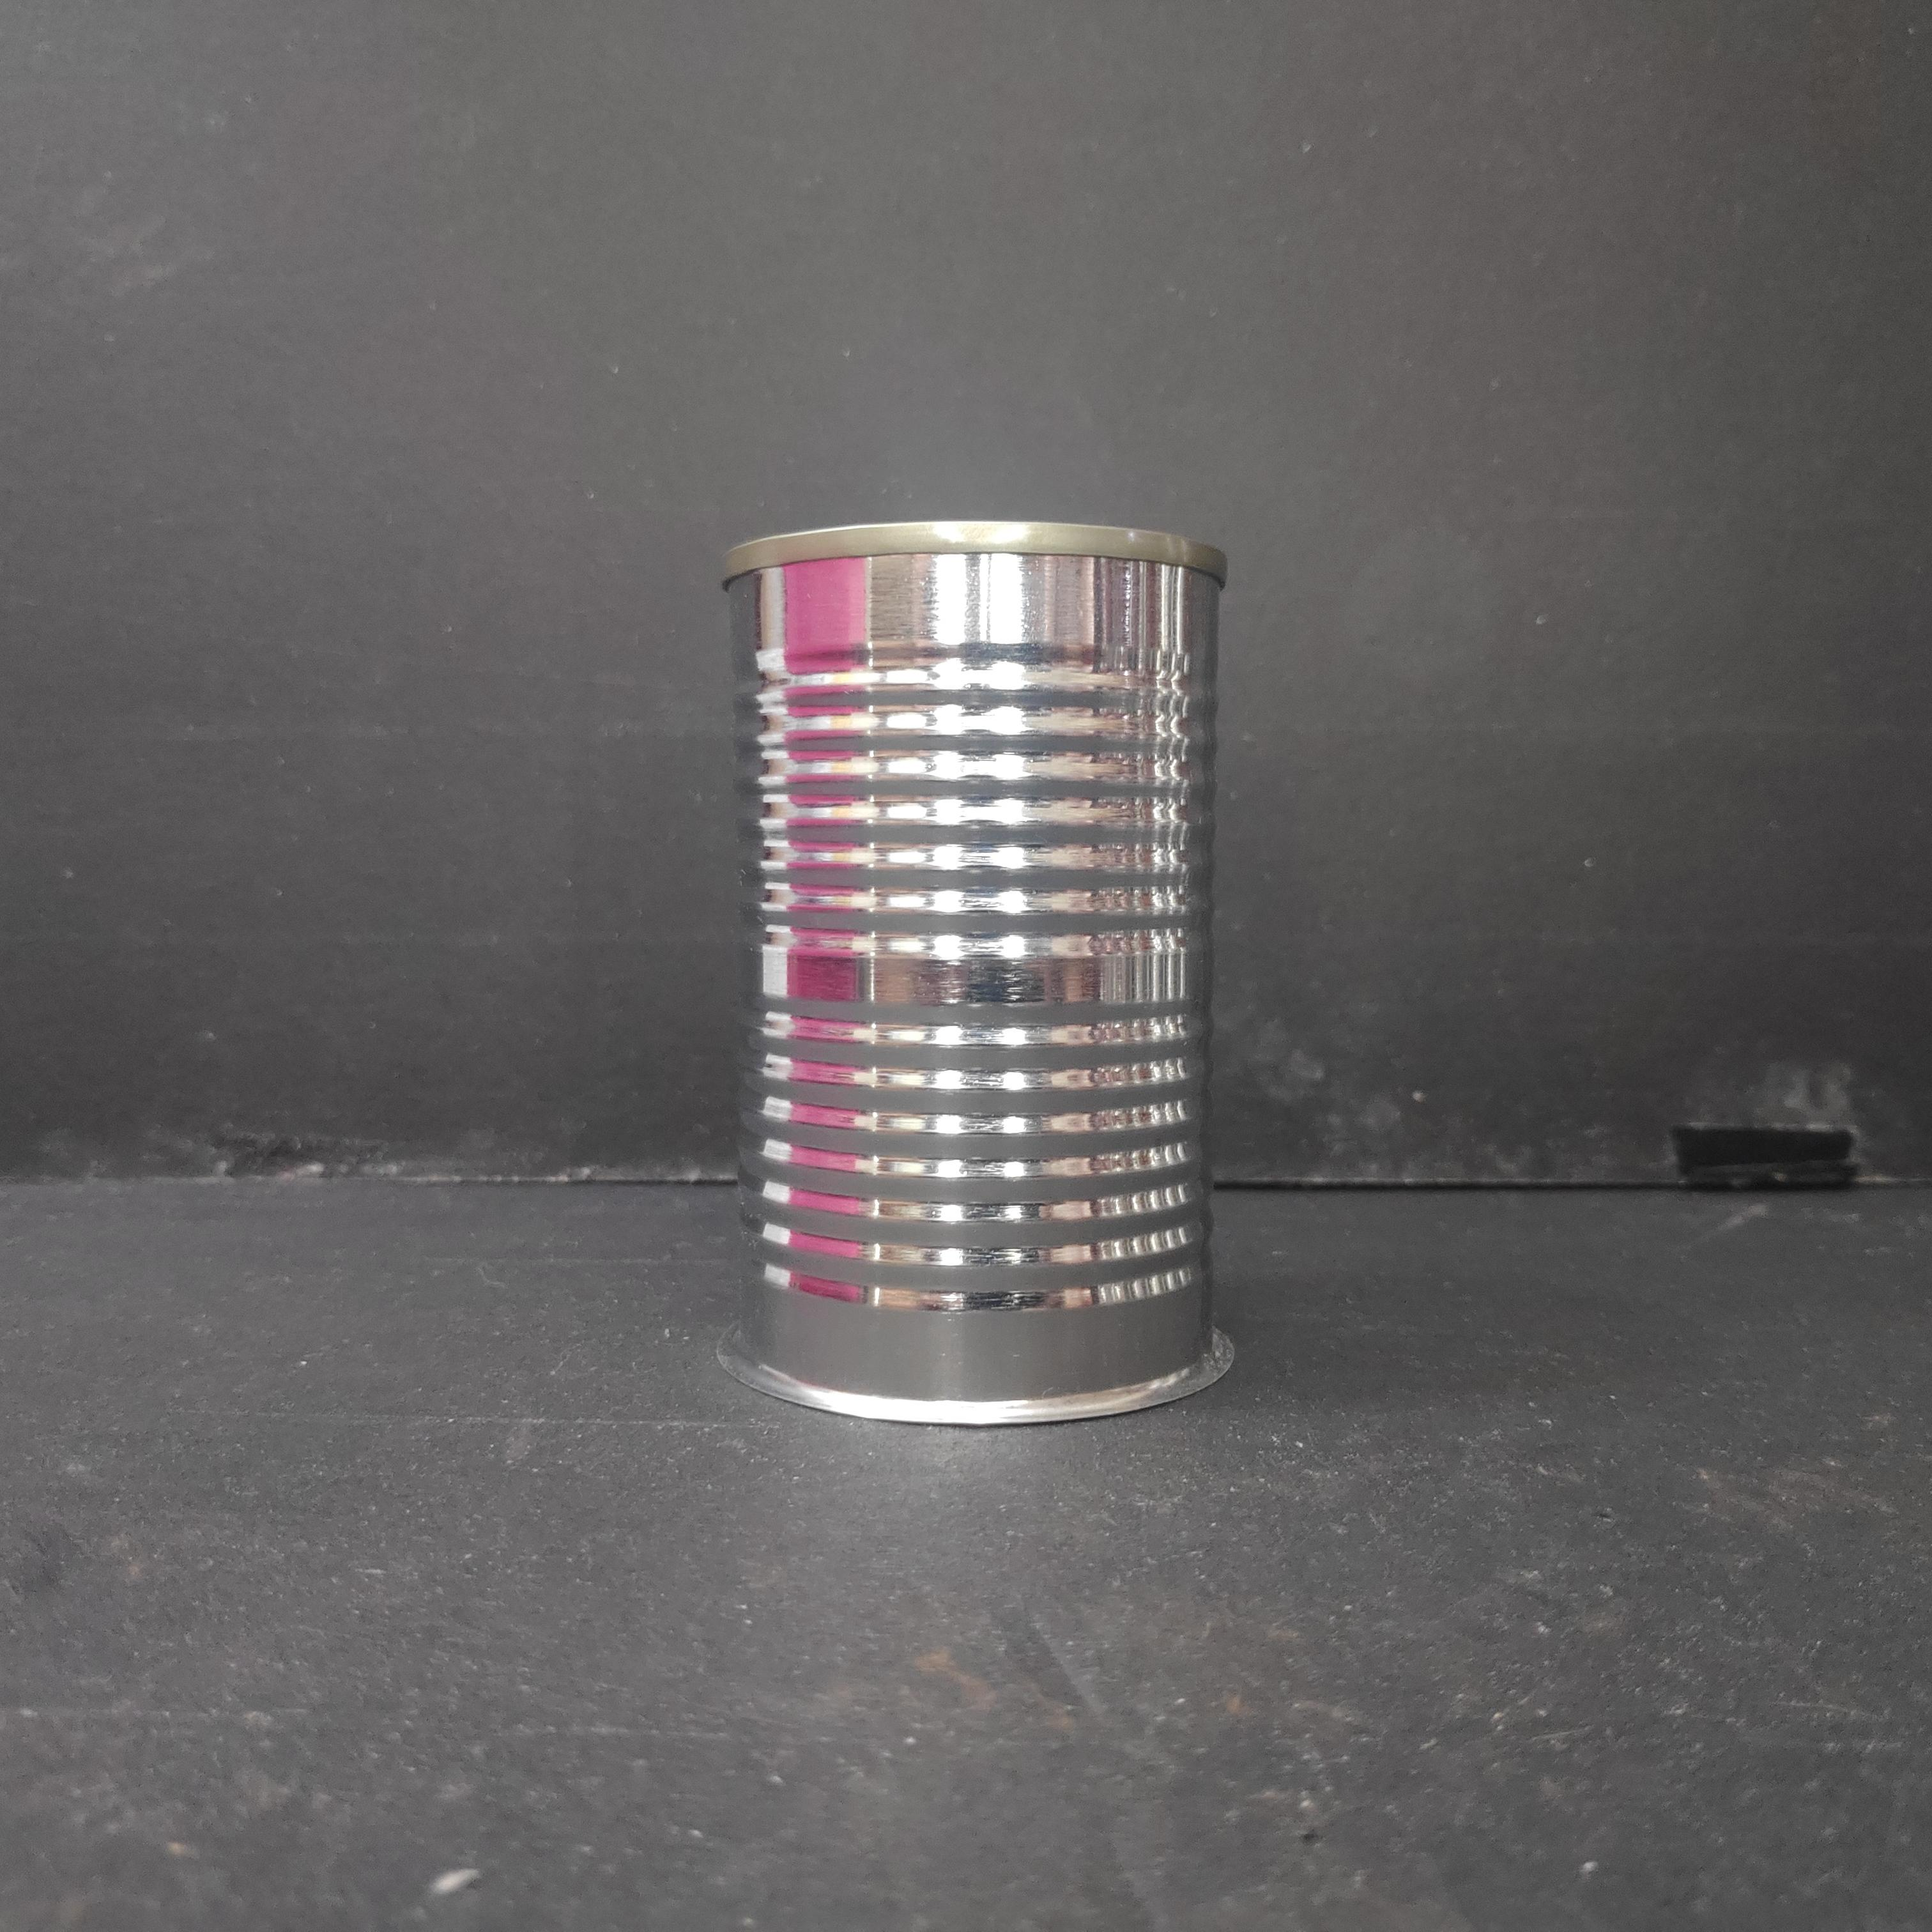No defect: (708, 508, 1247, 1442)
